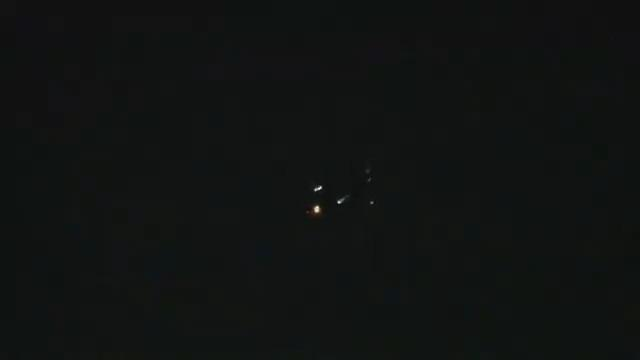Plane: (252, 170, 420, 230)
